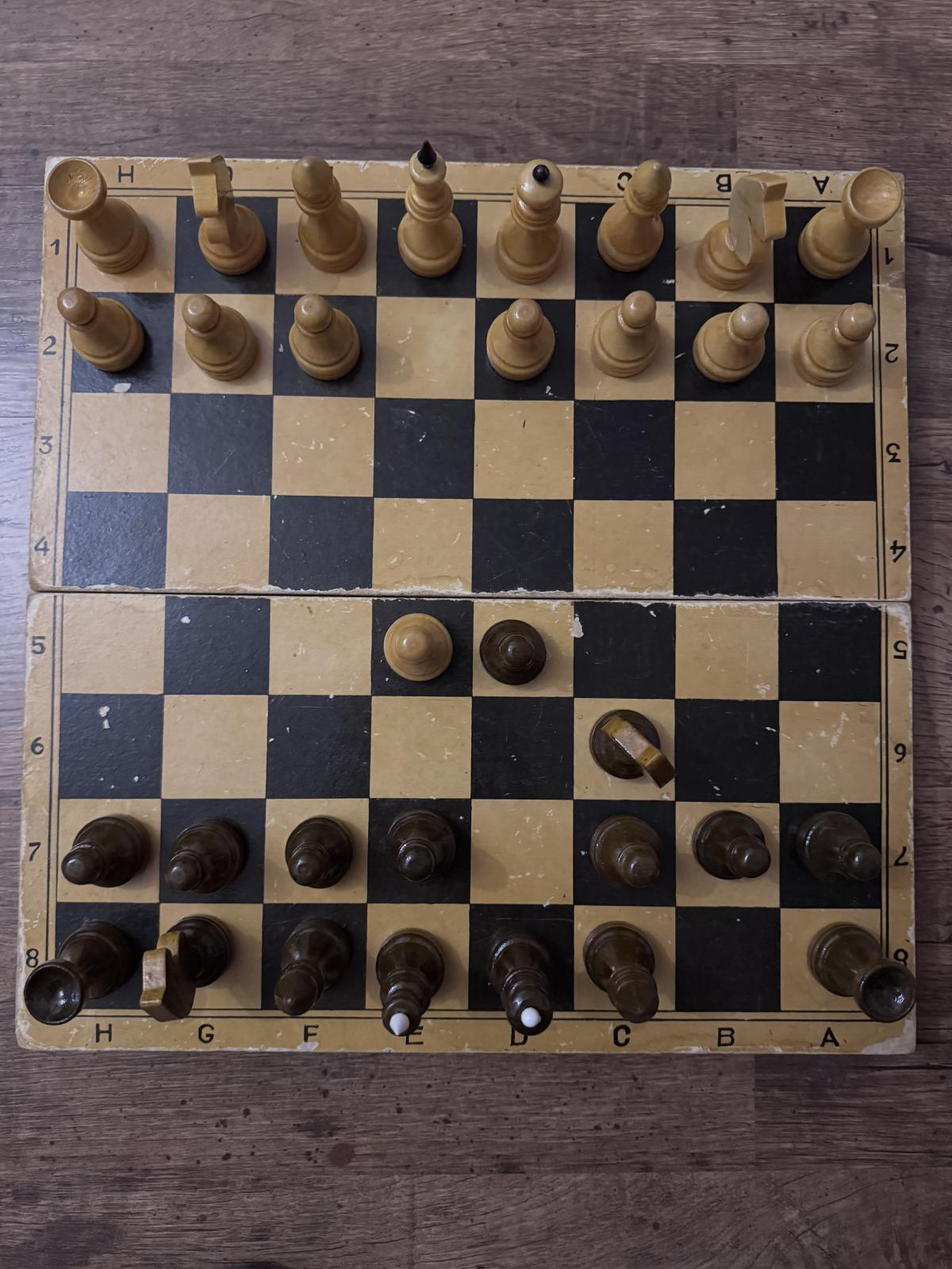Chess-Board: (54, 195, 882, 1011)
